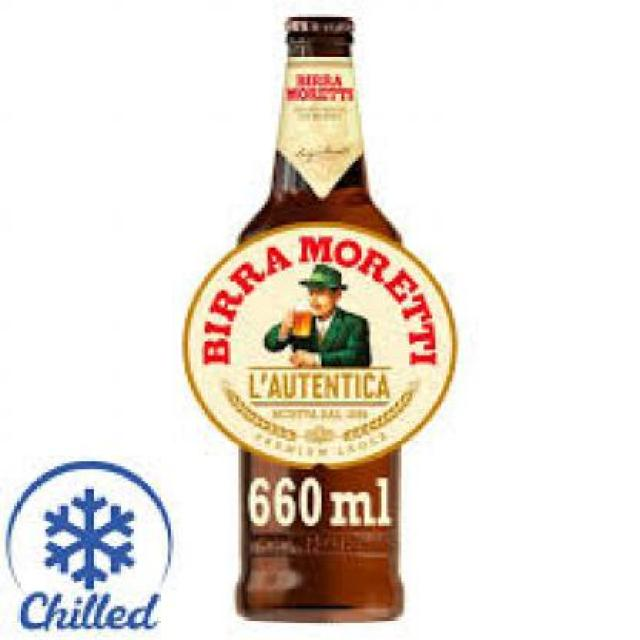GLASS: (236, 28, 401, 623)
METAL: (281, 12, 350, 26)
